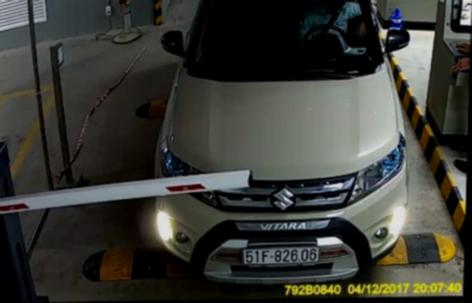License_Plate: (242, 244, 324, 267)
